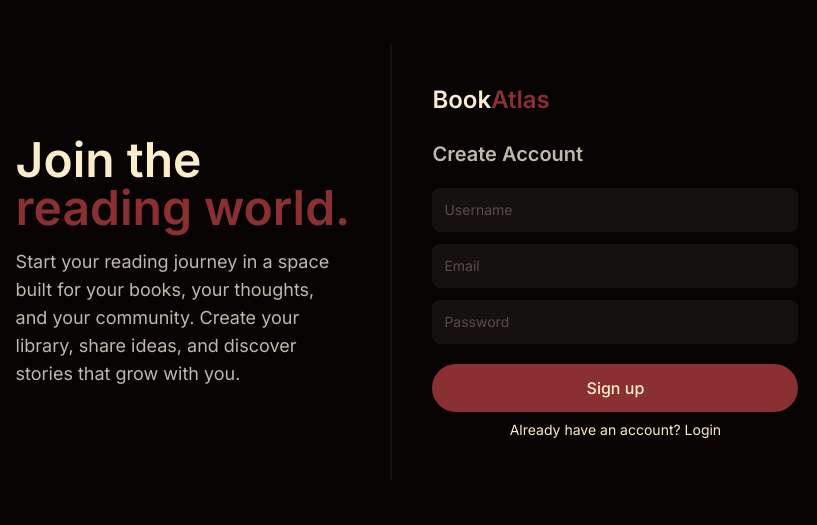
Test: RegisterPage › shows errors for invalid username format
Type "abc" into the field with placeholder "Username" at (615, 210), box [432,188,798,232]
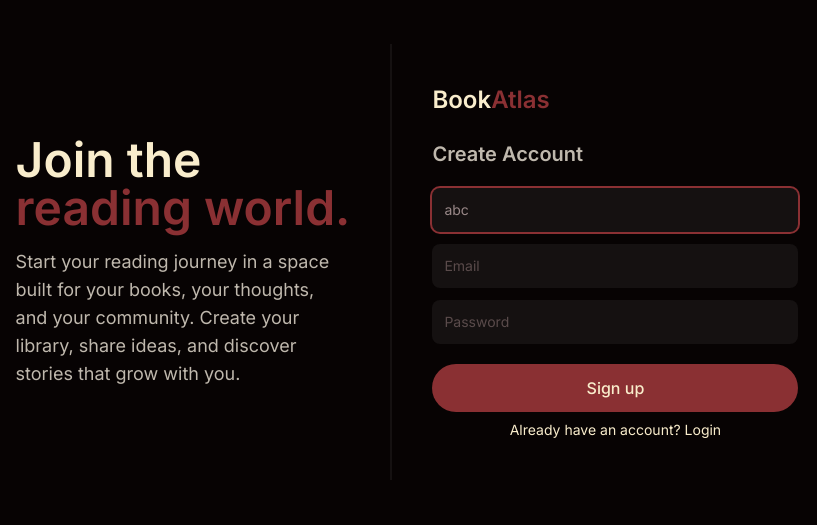
Type "testuser1@example.com" into the field with placeholder "Email" at (615, 266), box [432,244,798,288]
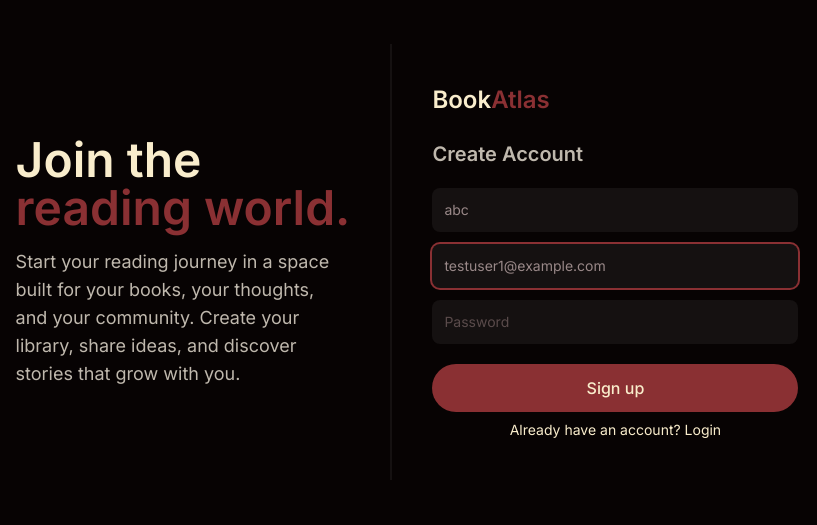
Type "Password123!" into the password field with placeholder "Password" at (615, 322), box [432,300,798,344]
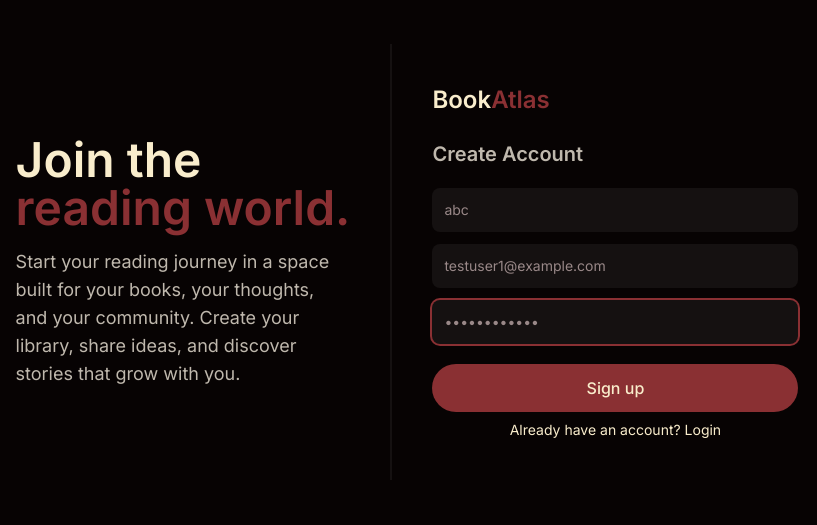
Click the button "Sign up" at (615, 388), box [432,364,798,412]
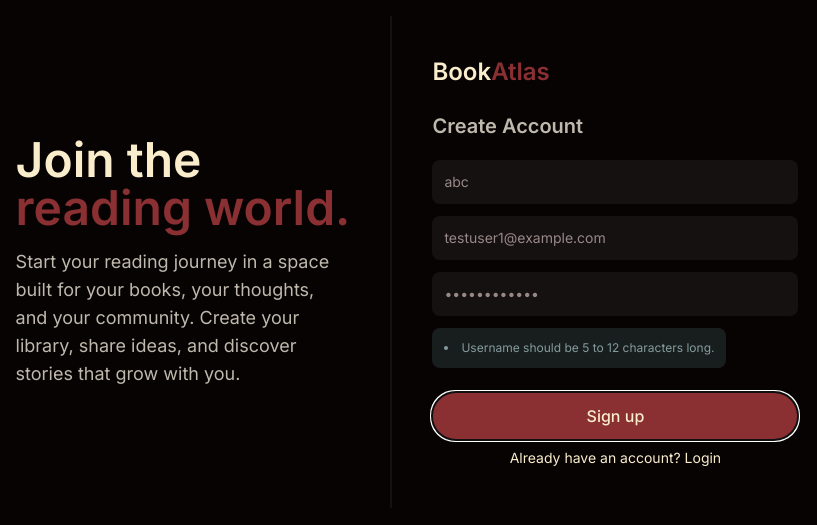
Result: the list item "Username should be 5 to 12 characters long." is shown at [444,340,714,356]
